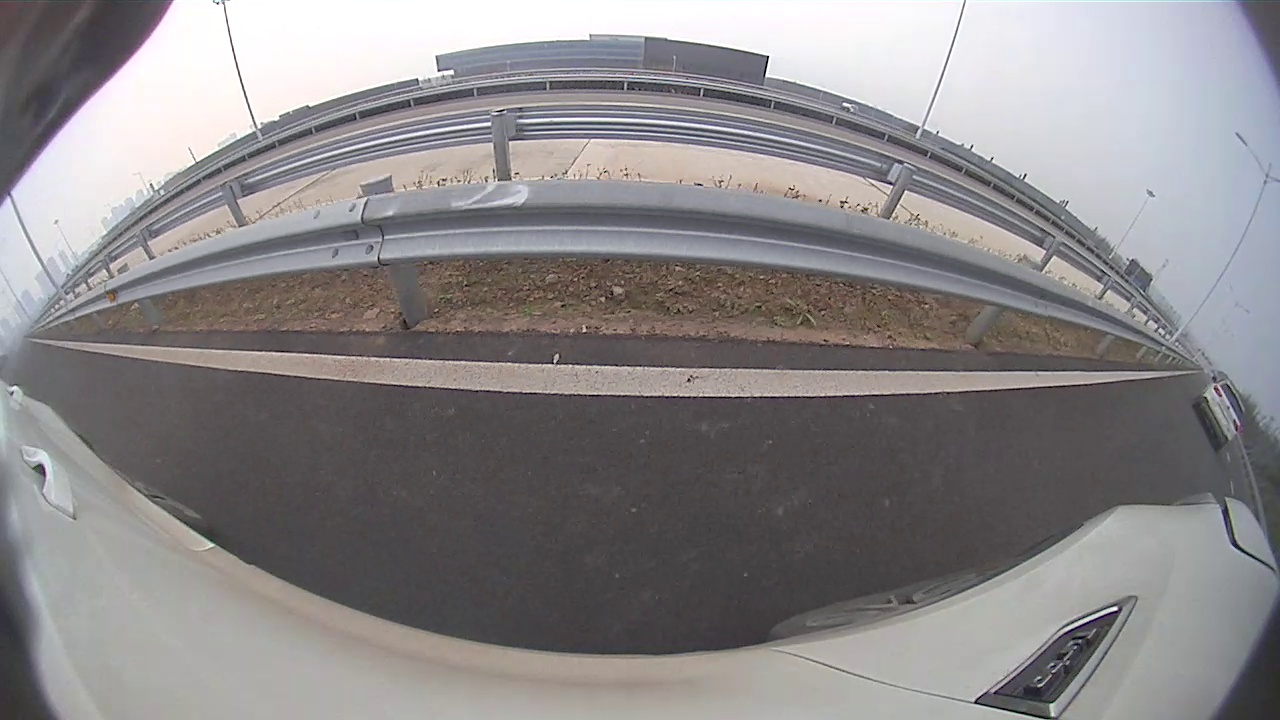car: (1191, 375, 1246, 453)
